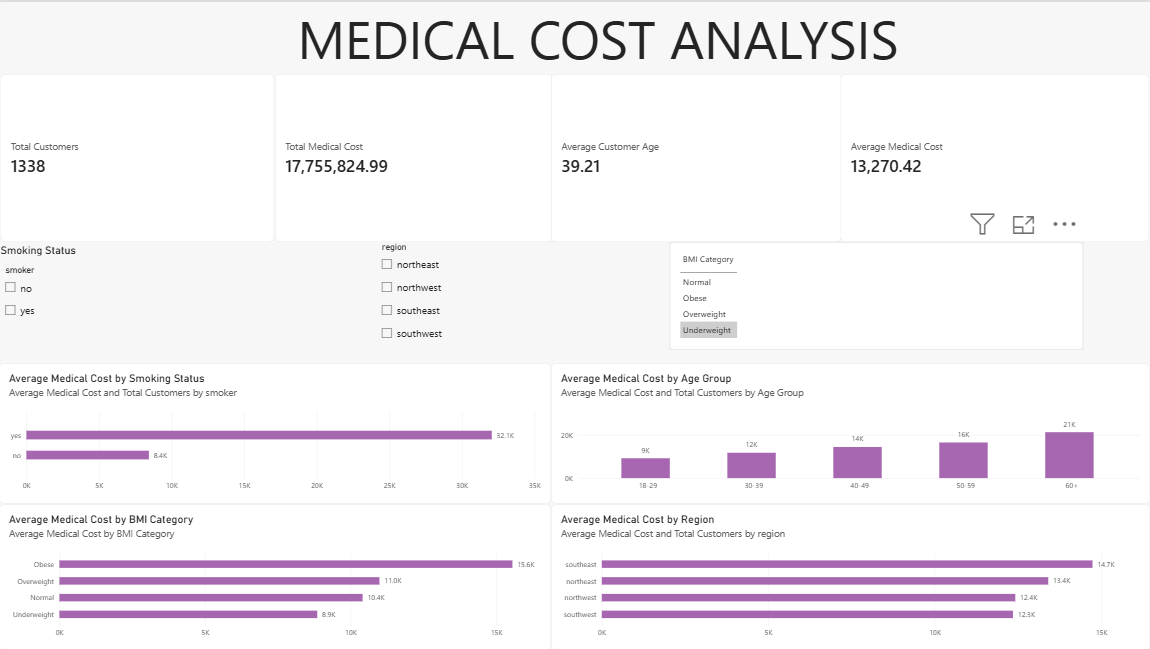

The page's visual inventory and layout, read from the dashboard file:
{"tool":"powerbi","page":{"name":"Page 1","canvas":[1920,1080],"ordinal":0},"visuals":[{"type":"cardVisual","fields":{"Data":["insurance.Total Customers"]},"box":[3.3,120,456.4,280.6],"z":0},{"type":"cardVisual","fields":{"Data":["insurance.Total Medical Cost"]},"box":[460,120,462.1,280.6],"z":1000},{"type":"cardVisual","fields":{"Data":["insurance.Average Customer Age"]},"box":[920,120,484.7,280.6],"z":2000},{"type":"cardVisual","fields":{"Data":["insurance.Average Medical Cost"]},"box":[1403.3,120,516.7,280],"z":3000},{"type":"clusteredBarChart","title":"Average Medical Cost by Smoking Status","fields":{"Category":["insurance.smoker"],"Y":["insurance.Average Medical Cost"]},"box":[0,603.3,920,233.3],"z":4000},{"type":"clusteredColumnChart","title":"Average Medical Cost by Age Group","fields":{"Category":["insurance.Age Group"],"Y":["insurance.Average Medical Cost"]},"box":[920,603.3,1000,233.3],"z":5000},{"type":"clusteredBarChart","title":"Average Medical Cost by BMI Category","fields":{"Category":["insurance.BMI Category"],"Y":["insurance.Average Medical Cost"]},"box":[0,836.7,920,243.3],"z":6000},{"type":"clusteredBarChart","title":"Average Medical Cost by Region","fields":{"Category":["insurance.region"],"Y":["insurance.Average Medical Cost"]},"box":[920,836.7,1000,243.3],"z":7000},{"type":"textbox","box":[390,0,1216.7,120],"z":8000},{"type":"slicer","title":"Smoking Status","fields":{"Values":["insurance.smoker"]},"box":[2.5,402.5,627.5,177.5],"z":8001},{"type":"slicer","fields":{"Values":["insurance.region"]},"box":[630,400,533.3,203.3],"z":8002},{"type":"tableEx","fields":{"Values":["insurance.BMI Category"]},"box":[1116.7,400,690,180],"z":8003}]}

Visuals, with their boxes in screenshot pixels (x1, y1, x2, y2), scaled from the page's 1920x1080 canvas onto the 1150x649 screenshot:
cardVisual - insurance.Total Customers: bbox=(2, 72, 275, 241)
cardVisual - insurance.Total Medical Cost: bbox=(276, 72, 552, 241)
cardVisual - insurance.Average Customer Age: bbox=(551, 72, 841, 241)
cardVisual - insurance.Average Medical Cost: bbox=(841, 72, 1149, 240)
"Average Medical Cost by Smoking Status" clusteredBarChart: bbox=(0, 363, 551, 503)
"Average Medical Cost by Age Group" clusteredColumnChart: bbox=(551, 363, 1149, 503)
"Average Medical Cost by BMI Category" clusteredBarChart: bbox=(0, 503, 551, 648)
"Average Medical Cost by Region" clusteredBarChart: bbox=(551, 503, 1149, 648)
textbox: bbox=(234, 0, 962, 72)
"Smoking Status" slicer: bbox=(1, 242, 377, 349)
slicer - insurance.region: bbox=(377, 240, 697, 363)
tableEx - insurance.BMI Category: bbox=(669, 240, 1082, 349)
